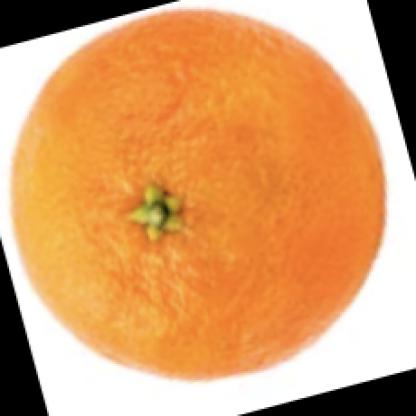orange: (7, 9, 385, 380)
